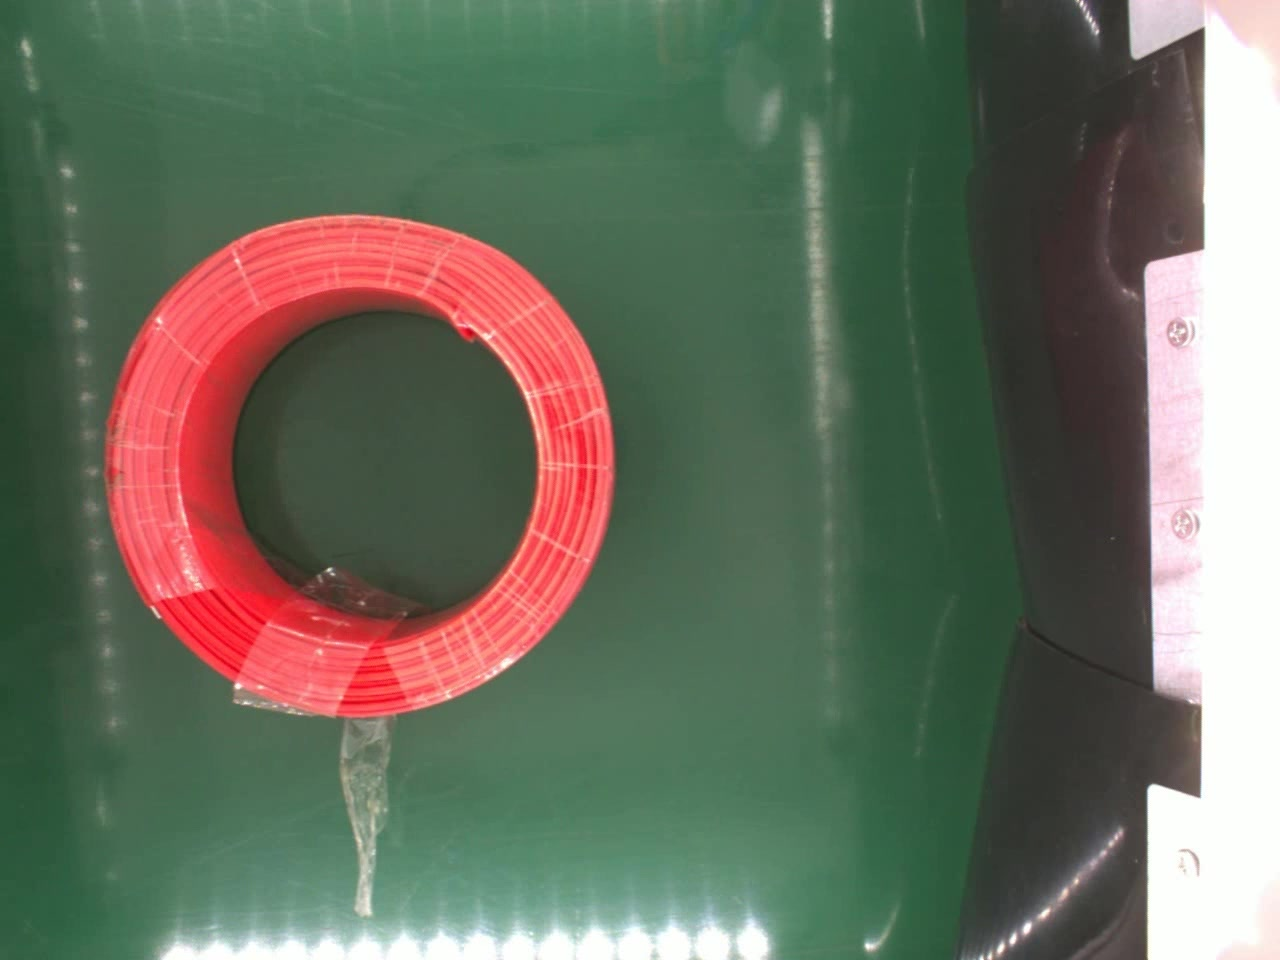red: (100, 211, 615, 720)
